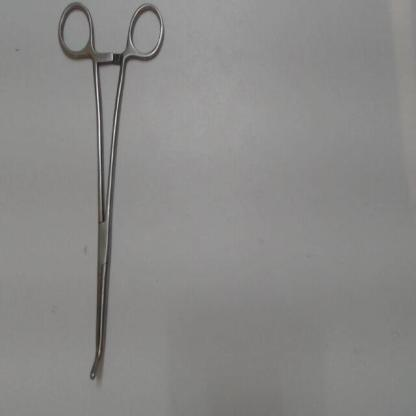Lahey Forceps: (53, 1, 168, 383)
